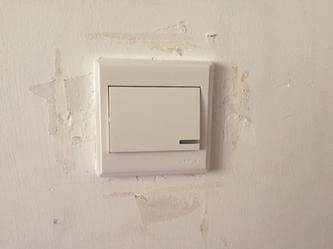switch: (109, 83, 200, 151)
